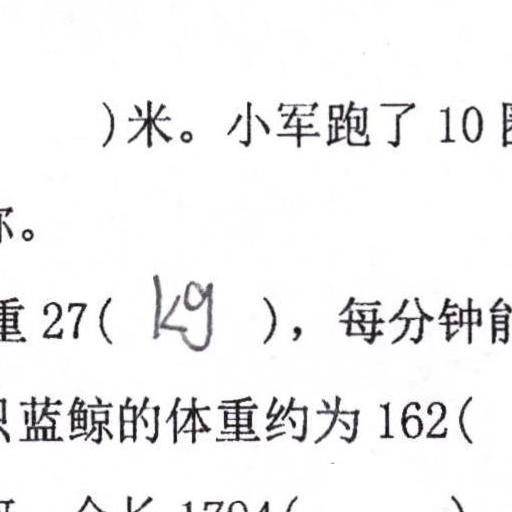ans: (143, 267, 216, 353)
